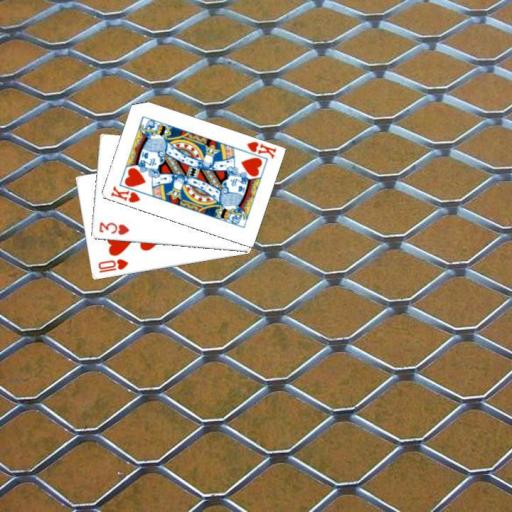10H: (95, 256, 130, 274)
3H: (96, 219, 130, 237)
KH: (108, 183, 142, 204), (244, 139, 278, 160)
